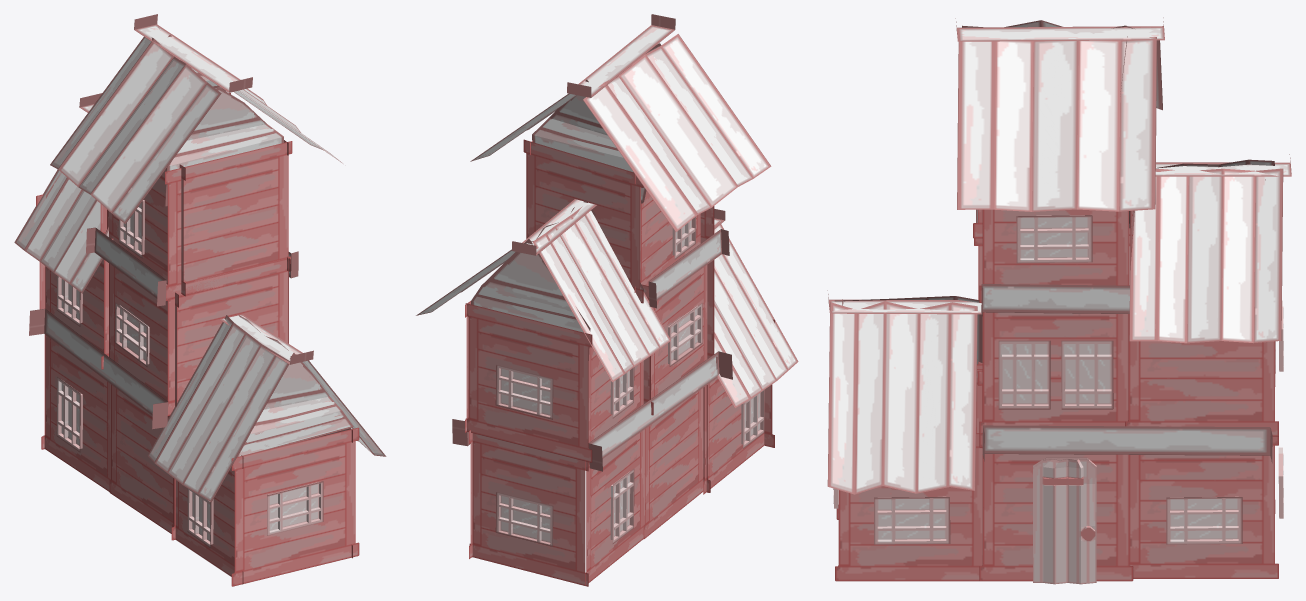
Rendered from Betsy's_House_Textured.fbx.
The picture shows the model from 3 angles, left to right: view 1: azimuth 30°, elevation 25°; view 2: azimuth 150°, elevation 25°; view 3: azimuth 270°, elevation 25°; orthographic projection. The views are drawn at different scales.
Visible parts, largest first — view 1: Plane.023, Plane.018, Plane.015, Plane.024, Plane.012, Plane.025, Plane.054, Plane.002, Plane.052, Plane.051, Plane.013, Plane.029 (+15 smaller); view 2: Plane.023, Plane.006, Plane.005, Plane.025, Plane.020, Plane.024, Plane.002, Plane.054, Plane.053, Plane.029, Plane.016, Plane.050 (+17 smaller); view 3: Plane.010, Plane.022, Plane.021, Plane.001, Plane.007, Plane.004, Plane.014, Plane.011, Plane.026, Plane.032, Plane.019, Plane.027 (+10 smaller).
Boxes of the visible parts, x1=… form: Plane.023: x1=50, y1=37, x2=221, y2=223; Plane.018: x1=165, y1=141, x2=292, y2=299; Plane.015: x1=231, y1=427, x2=359, y2=586; Plane.024: x1=147, y1=315, x2=290, y2=502; Plane.012: x1=166, y1=258, x2=290, y2=415; Plane.025: x1=14, y1=169, x2=102, y2=293; Plane.054: x1=43, y1=335, x2=110, y2=491; Plane.002: x1=109, y1=384, x2=173, y2=533; Plane.052: x1=237, y1=353, x2=353, y2=456; Plane.051: x1=165, y1=87, x2=283, y2=206; Plane.013: x1=109, y1=263, x2=178, y2=416; Plane.029: x1=29, y1=308, x2=168, y2=429; Plane.023: x1=583, y1=34, x2=771, y2=231; Plane.006: x1=465, y1=303, x2=592, y2=462; Plane.005: x1=469, y1=433, x2=588, y2=586; Plane.025: x1=533, y1=206, x2=671, y2=382; Plane.020: x1=523, y1=139, x2=643, y2=303; Plane.024: x1=714, y1=221, x2=798, y2=407; Plane.002: x1=643, y1=388, x2=703, y2=539; Plane.054: x1=585, y1=429, x2=644, y2=585; Plane.053: x1=471, y1=239, x2=590, y2=360; Plane.029: x1=588, y1=351, x2=732, y2=471; Plane.016: x1=703, y1=378, x2=764, y2=494; Plane.050: x1=532, y1=79, x2=646, y2=203; Plane.010: x1=957, y1=37, x2=1156, y2=211; Plane.022: x1=827, y1=301, x2=977, y2=494; Plane.021: x1=1129, y1=168, x2=1283, y2=343; Plane.001: x1=1129, y1=436, x2=1278, y2=578; Plane.007: x1=1125, y1=314, x2=1278, y2=436; Plane.004: x1=979, y1=433, x2=1133, y2=581; Plane.014: x1=835, y1=433, x2=982, y2=581; Plane.011: x1=979, y1=288, x2=1128, y2=432; Plane.026: x1=982, y1=425, x2=1272, y2=462; Plane.032: x1=1033, y1=457, x2=1096, y2=584; Plane.019: x1=979, y1=209, x2=1129, y2=288; Plane.027: x1=981, y1=284, x2=1129, y2=315.
Bounding box in the file's own units: 269 × 530 × 424.
Materials: 42 (42 with a texture image).
